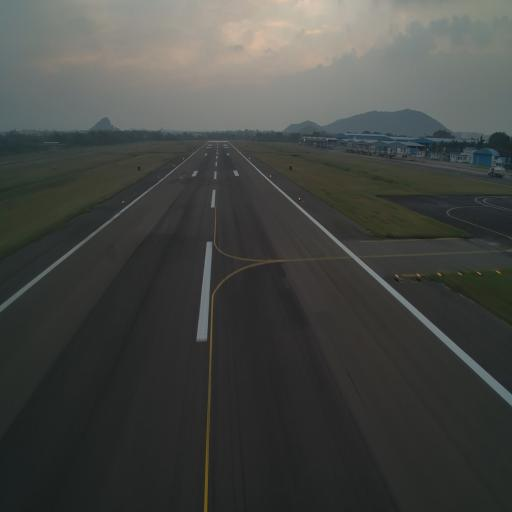on: (416, 270, 422, 280), (477, 269, 483, 278), (436, 269, 442, 277), (394, 272, 399, 281), (458, 270, 464, 277), (496, 270, 502, 276)
